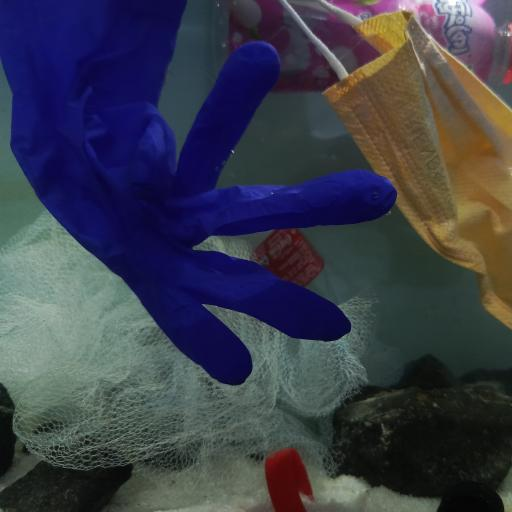bottle_cap: (264, 445, 314, 512), (436, 480, 505, 512)
glove: (0, 0, 399, 385)
mask: (278, 0, 512, 326)
net: (0, 207, 377, 483)
plastic_bottle: (207, 0, 512, 90), (230, 229, 333, 298)
